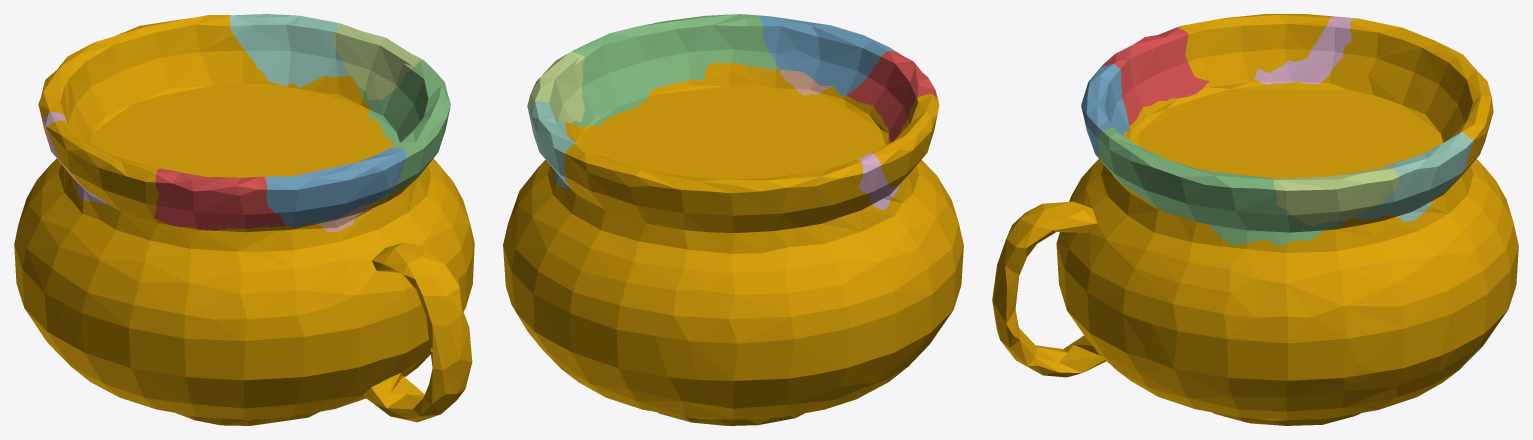
Rendered from fractured_35_8pcs.glb.
3 views of the same model, side by side, from view 1: azimuth 30°, elevation 25°; view 2: azimuth 150°, elevation 25°; view 3: azimuth 270°, elevation 25° (orthographic).
Parts seen in each view (by area): view 1: piece_0.obj, piece_2.obj, piece_4.obj, piece_1.obj, piece_3.obj, piece_5.obj, piece_6.obj, piece_7.obj; view 2: piece_0.obj, piece_3.obj, piece_2.obj, piece_1.obj, piece_5.obj, piece_4.obj, piece_6.obj, piece_7.obj; view 3: piece_0.obj, piece_3.obj, piece_1.obj, piece_5.obj, piece_4.obj, piece_6.obj, piece_2.obj.
Boxes of the visible parts, bbox=[...] form: piece_0.obj: bbox=[14, 15, 474, 425]; piece_2.obj: bbox=[265, 147, 406, 227]; piece_4.obj: bbox=[230, 14, 350, 88]; piece_1.obj: bbox=[152, 168, 286, 230]; piece_3.obj: bbox=[359, 61, 450, 201]; piece_5.obj: bbox=[333, 23, 427, 99]; piece_6.obj: bbox=[43, 112, 107, 204]; piece_7.obj: bbox=[315, 202, 375, 232]; piece_0.obj: bbox=[503, 62, 963, 425]; piece_3.obj: bbox=[571, 14, 779, 126]; piece_2.obj: bbox=[759, 15, 895, 95]; piece_1.obj: bbox=[847, 51, 937, 142]; piece_5.obj: bbox=[527, 52, 584, 123]; piece_4.obj: bbox=[529, 101, 579, 188]; piece_6.obj: bbox=[857, 153, 900, 209]; piece_7.obj: bbox=[779, 69, 832, 95]; piece_0.obj: bbox=[992, 14, 1518, 425]; piece_3.obj: bbox=[1097, 127, 1346, 246]; piece_1.obj: bbox=[1101, 27, 1208, 125]; piece_5.obj: bbox=[1270, 168, 1398, 225]; piece_4.obj: bbox=[1352, 131, 1473, 222]; piece_6.obj: bbox=[1255, 16, 1353, 84]; piece_2.obj: bbox=[1081, 64, 1129, 160].
Bounding box in the file's own units: 0.878 × 0.605 × 1.
